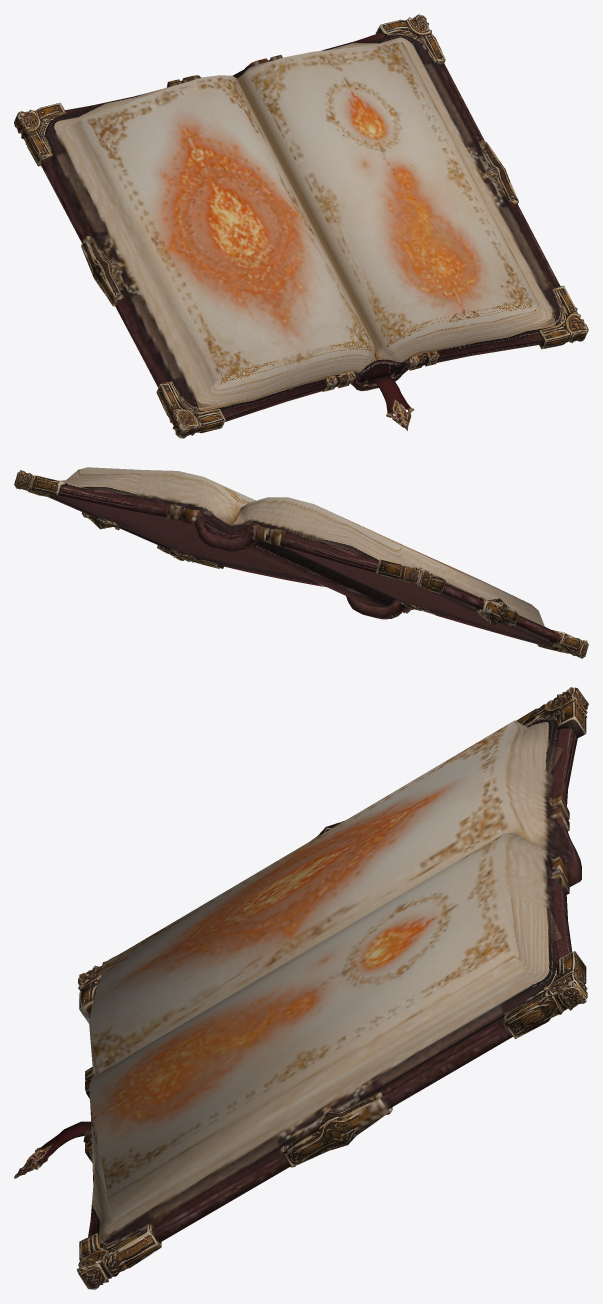
Rendered from magic_book.glb.
3 views of the same model, one above another, from view 1: azimuth 30°, elevation 25°; view 2: azimuth 150°, elevation 25°; view 3: azimuth 270°, elevation 25° (orthographic). The views are drawn at different scales.
Parts seen in each view (by area): view 1: tripo_node_64bd3047-cc4b-46a8-a861-571706d38058; view 2: tripo_node_64bd3047-cc4b-46a8-a861-571706d38058; view 3: tripo_node_64bd3047-cc4b-46a8-a861-571706d38058.
Boxes of the visible parts, x1,y1,x2,y2 form: tripo_node_64bd3047-cc4b-46a8-a861-571706d38058: (14, 14, 588, 438); tripo_node_64bd3047-cc4b-46a8-a861-571706d38058: (14, 467, 588, 658); tripo_node_64bd3047-cc4b-46a8-a861-571706d38058: (14, 687, 588, 1289).
Size of the model in its own units: 0.998 by 0.5684 by 0.8066.
Materials: 1 (1 with a texture image).
